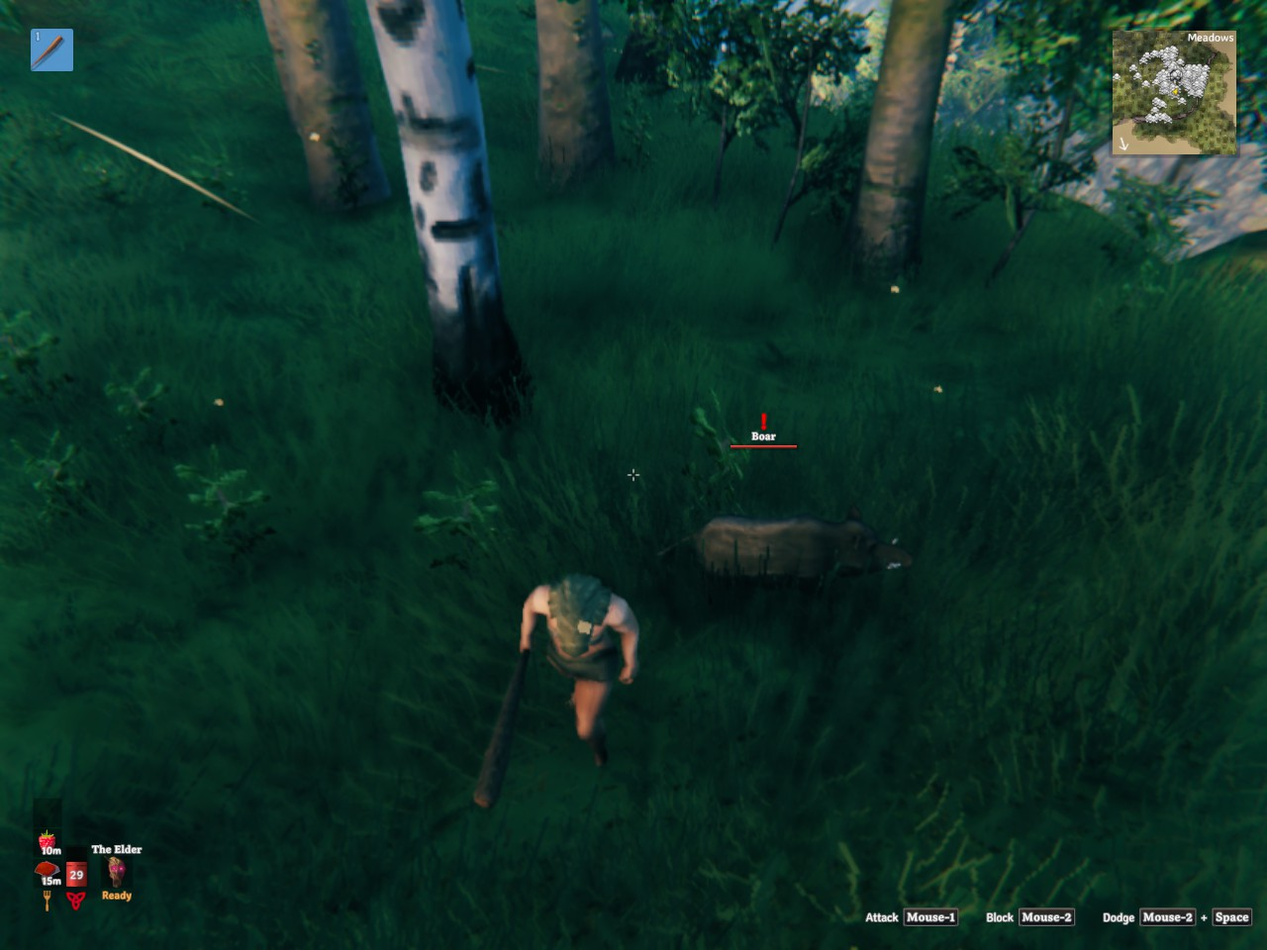Boar: (661, 509, 912, 578)
Club: (475, 650, 530, 808)
Food Indicator: (35, 860, 63, 886), (39, 830, 54, 853)
Health Bar: (66, 861, 86, 887)
Hotbar: (32, 28, 73, 70)
